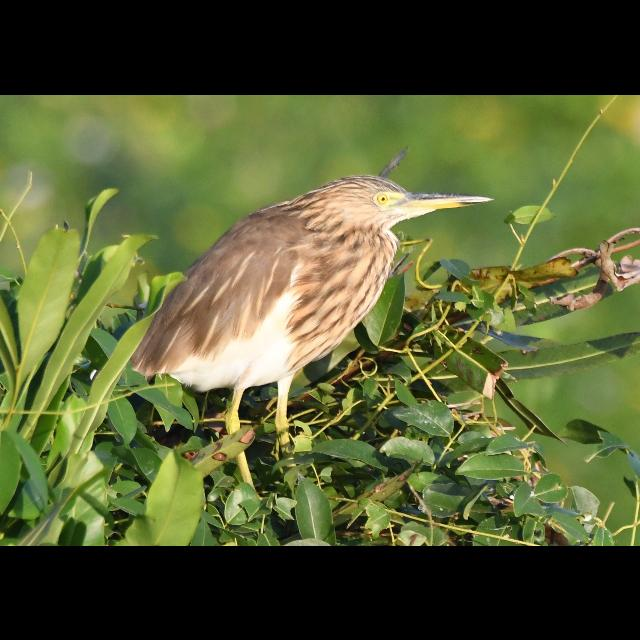heron: (122, 172, 494, 434)
